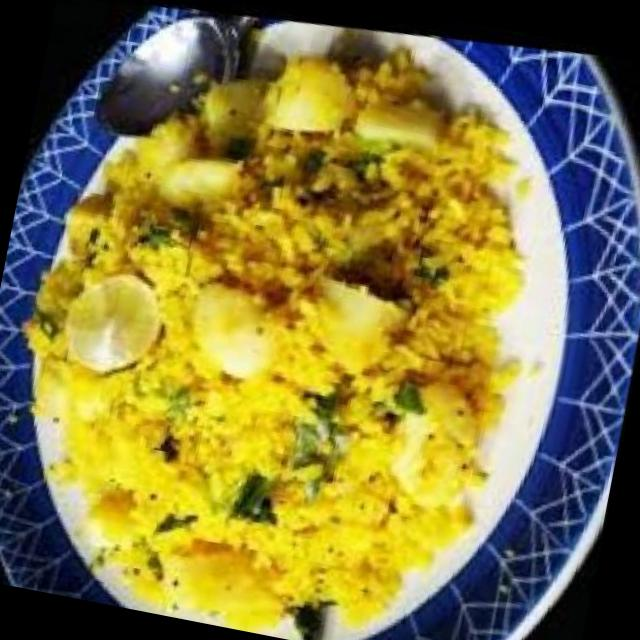poha: (0, 0, 585, 640)
